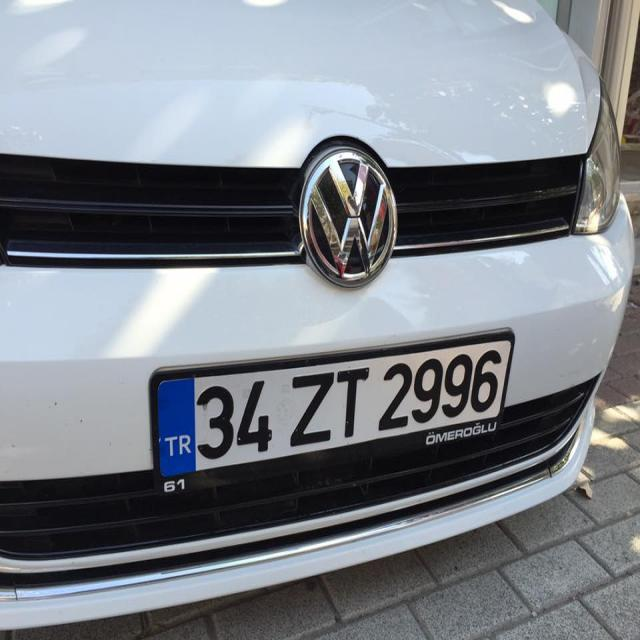plate: (153, 334, 513, 478)
